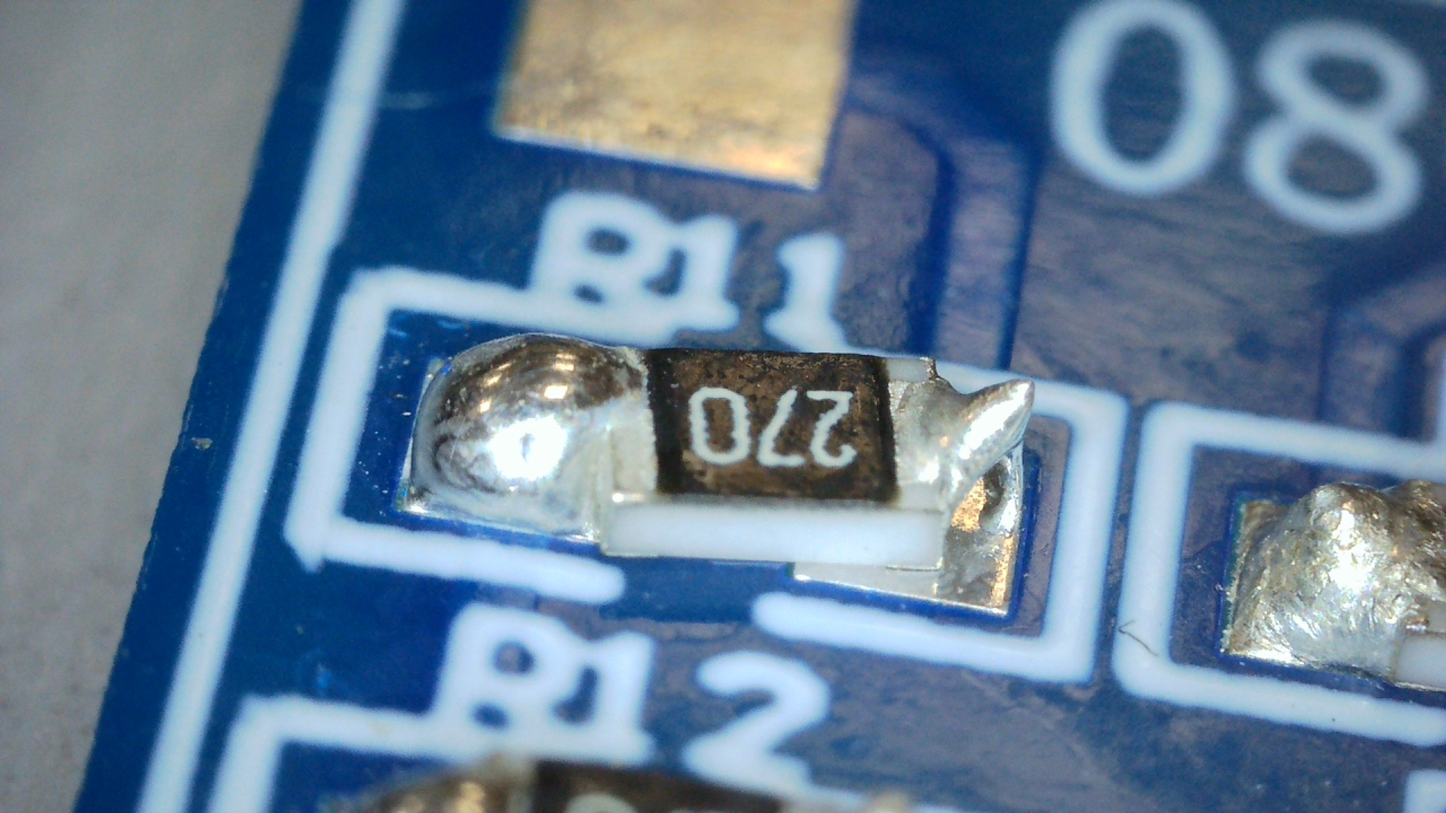NG: (411, 334, 658, 538), (938, 373, 1035, 534)
